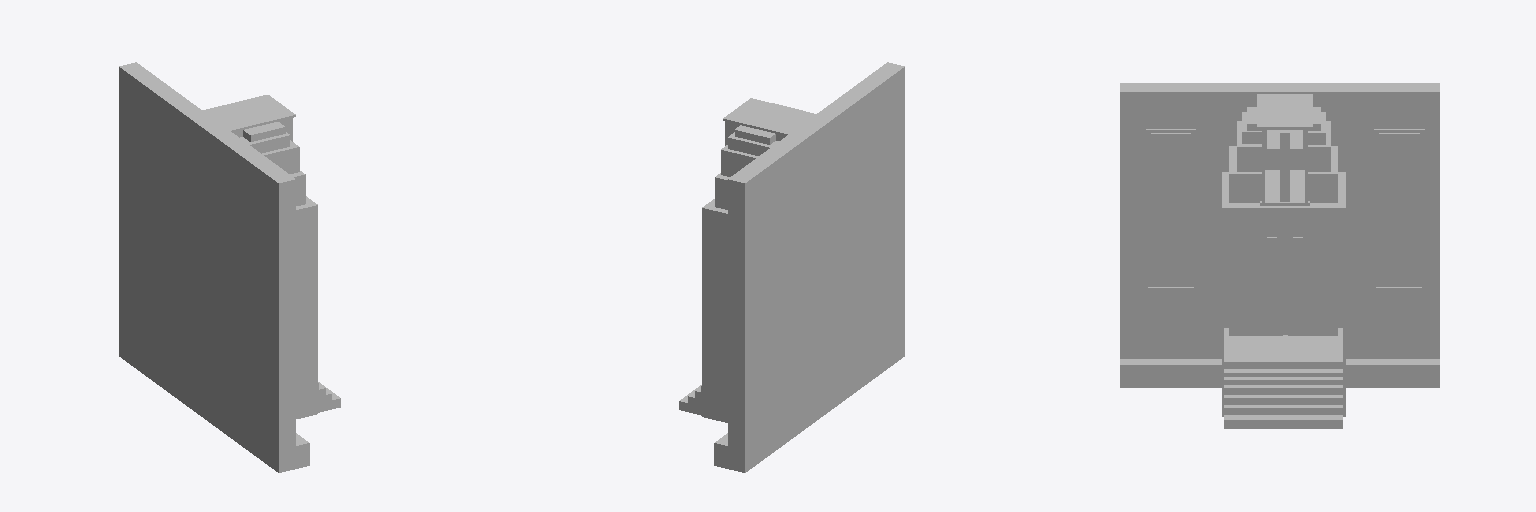
Rendered from church entrance.obj.
The picture shows the model from 3 angles: view 1: azimuth 30°, elevation 25°; view 2: azimuth 150°, elevation 25°; view 3: azimuth 270°, elevation 25°; orthographic projection.
Parts seen in each view (by area): view 1: object 1; view 2: object 1; view 3: object 1.
Part boxes in pixels (x1,y1,x2,y2): object 1: (119,62,340,472); object 1: (679,62,904,472); object 1: (1120,83,1439,428).
Size of the model in its own units: 5.2 by 12.6 by 12.6.